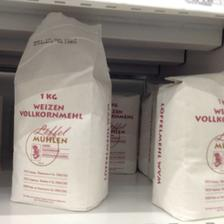Mehl: (13, 12, 112, 212), (153, 71, 223, 221)
